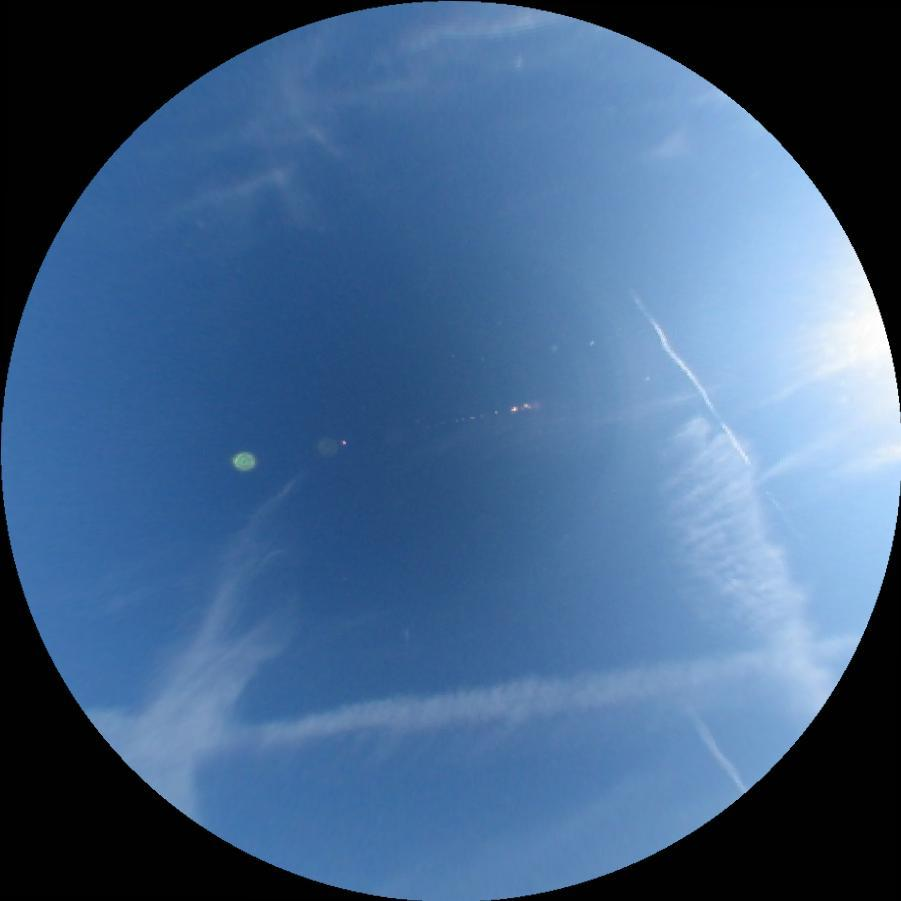contrail old: (621, 285, 808, 541), (673, 696, 752, 793)
contrail veryold: (214, 629, 865, 759), (628, 403, 843, 745)
